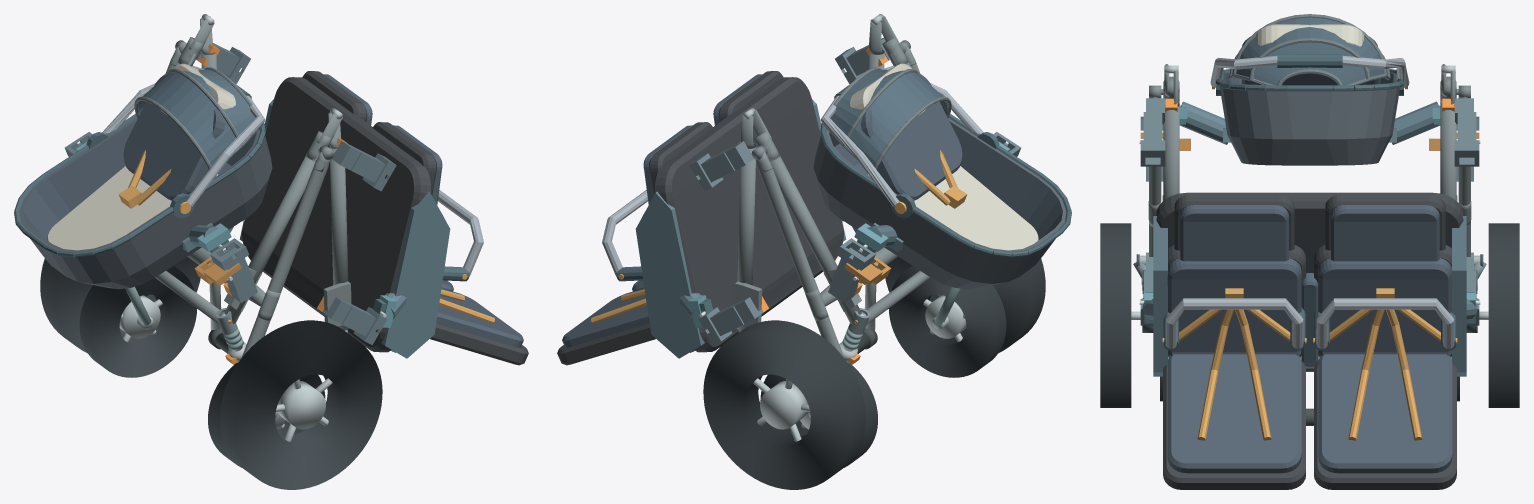
Rendered from D25_w650_state3_wheel_L.glb.
3 renders of one model, left to right at view 1: azimuth 30°, elevation 25°; view 2: azimuth 150°, elevation 25°; view 3: azimuth 270°, elevation 25°, orthographic. The views are drawn at different scales.
Visible parts, largest first — view 1: D25_Lower, D25_Upper, RL_tire.008, FR_tire.008, RR_tire.008, V46_rear_leg_-1.009, main_lower_-1.009, main_upper_-1.009, RL_sealed_hub.008, Universal_Cabin_Receiver_M_-1, Universal_Cabin_Receiver_L_-1, Universal_Cabin_Receiver_H_-1 (+8 smaller); view 2: D25_Lower, D25_Upper, RR_tire.008, FL_tire.008, RL_tire.008, V46_rear_leg_1.009, main_lower_1.009, main_upper_1.009, RR_sealed_hub.008, Universal_Cabin_Receiver_M_1, Universal_Cabin_Receiver_L_1, Universal_Cabin_Receiver_H_1 (+8 smaller); view 3: D25_Upper, D25_Lower, RL_tire.008, RR_tire.008, D25_Lower_Mount_L, Universal_Cabin_Receiver_M_1, Universal_Cabin_Receiver_M_-1, main_upper_1.009, main_upper_-1.009, D25_Upper_Mount_H, V46_rear_leg_1.009, V46_rear_leg_-1.009 (+2 smaller).
Boxes of the visible parts, bbox=[...] form: D25_Lower: bbox=[14, 63, 272, 289]; D25_Upper: bbox=[239, 71, 528, 365]; RL_tire.008: bbox=[220, 320, 382, 489]; FR_tire.008: bbox=[79, 266, 196, 377]; RR_tire.008: bbox=[40, 257, 200, 352]; V46_rear_leg_-1.009: bbox=[241, 159, 329, 357]; main_lower_-1.009: bbox=[224, 154, 318, 323]; main_upper_-1.009: bbox=[329, 147, 348, 330]; RL_sealed_hub.008: bbox=[278, 381, 325, 429]; Universal_Cabin_Receiver_M_-1: bbox=[332, 141, 396, 191]; Universal_Cabin_Receiver_L_-1: bbox=[210, 238, 257, 302]; Universal_Cabin_Receiver_H_-1: bbox=[322, 297, 387, 345]; D25_Lower: bbox=[813, 63, 1071, 289]; D25_Upper: bbox=[557, 71, 846, 365]; RR_tire.008: bbox=[703, 320, 865, 489]; FL_tire.008: bbox=[889, 266, 1006, 377]; RL_tire.008: bbox=[885, 257, 1045, 352]; V46_rear_leg_1.009: bbox=[756, 159, 844, 357]; main_lower_1.009: bbox=[767, 154, 861, 323]; main_upper_1.009: bbox=[737, 144, 756, 330]; RR_sealed_hub.008: bbox=[760, 381, 807, 429]; Universal_Cabin_Receiver_M_1: bbox=[689, 141, 753, 191]; Universal_Cabin_Receiver_L_1: bbox=[828, 238, 875, 302]; Universal_Cabin_Receiver_H_1: bbox=[698, 297, 763, 345]; D25_Upper: bbox=[1153, 192, 1466, 489]; D25_Lower: bbox=[1210, 14, 1409, 165]; RL_tire.008: bbox=[1100, 223, 1131, 407]; RR_tire.008: bbox=[1488, 223, 1519, 407]; D25_Lower_Mount_L: bbox=[1179, 101, 1440, 144]; Universal_Cabin_Receiver_M_1: bbox=[1454, 98, 1479, 166]; Universal_Cabin_Receiver_M_-1: bbox=[1140, 98, 1165, 166]; main_upper_1.009: bbox=[1440, 103, 1456, 200]; main_upper_-1.009: bbox=[1163, 106, 1179, 200]; D25_Upper_Mount_H: bbox=[1139, 292, 1480, 323]; V46_rear_leg_1.009: bbox=[1458, 166, 1470, 256]; V46_rear_leg_-1.009: bbox=[1149, 166, 1161, 256].
Size of the model in its own units: 1.05 by 0.8045 by 0.8171.
